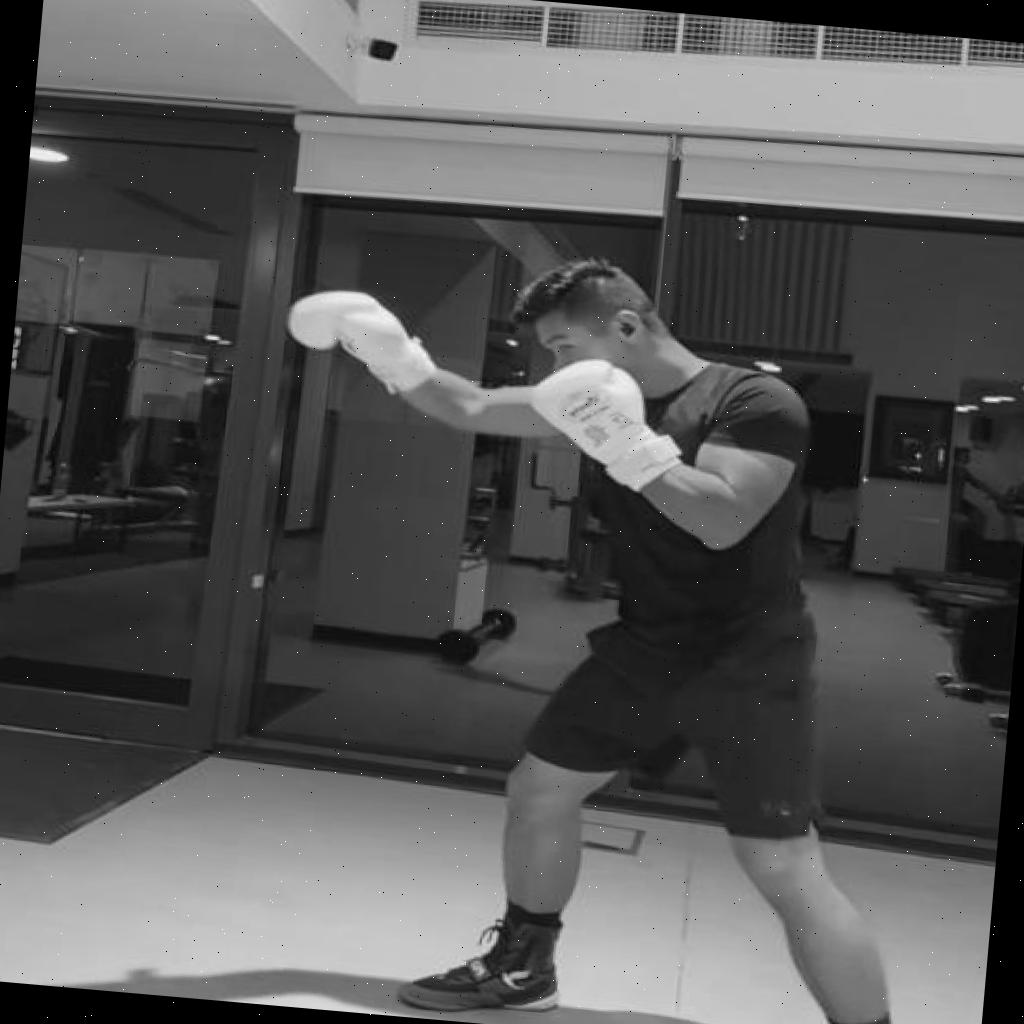jab: (235, 235, 1000, 1024)
